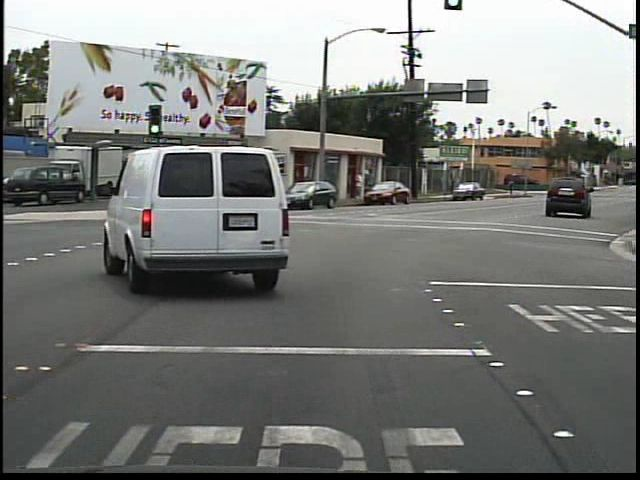person: (350, 167, 365, 201), (505, 175, 517, 198)
